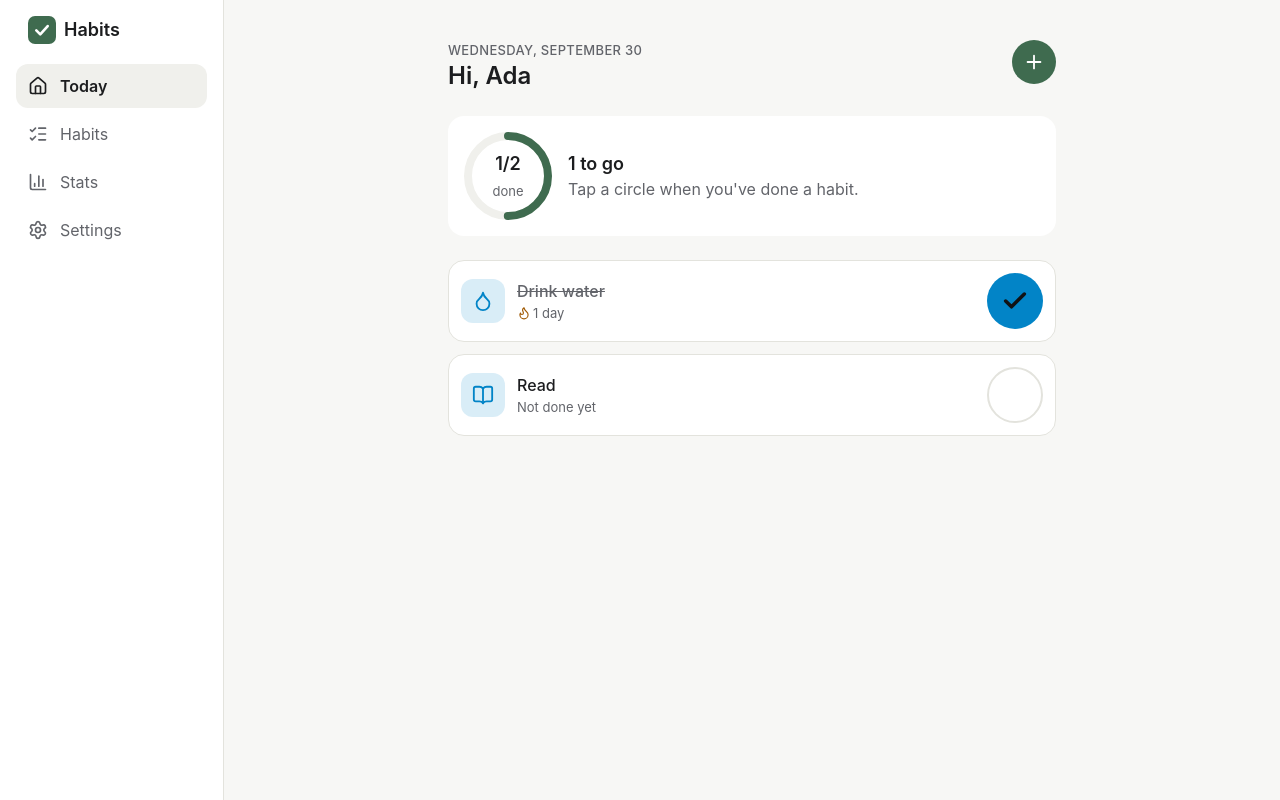
Test: checking a habit off › offers Undo after unchecking
Click the button named "Drink water: done. Tap to undo" at (1015, 301), box [987, 273, 1043, 329]
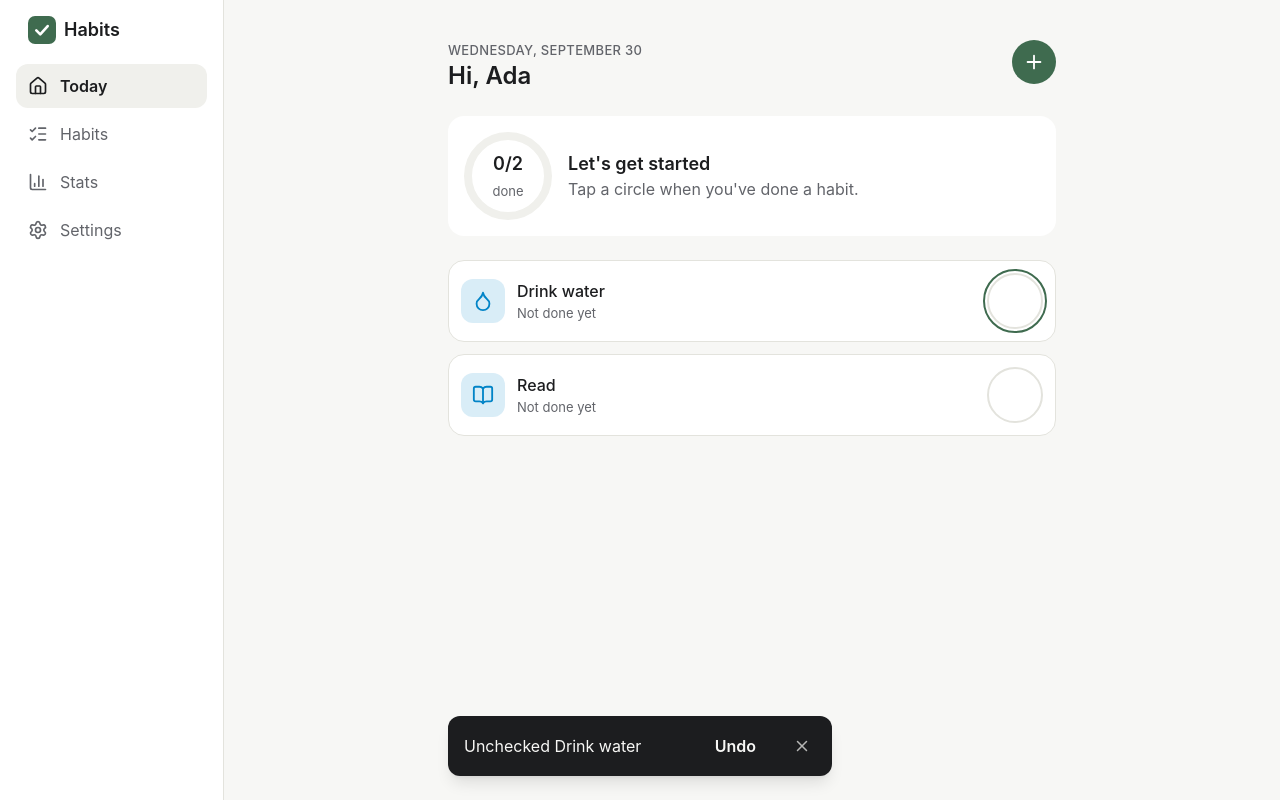
Result: the text "Unchecked Drink water" is shown at [464, 736, 641, 756]
Click the button "Undo" at (735, 746), box [703, 724, 768, 768]
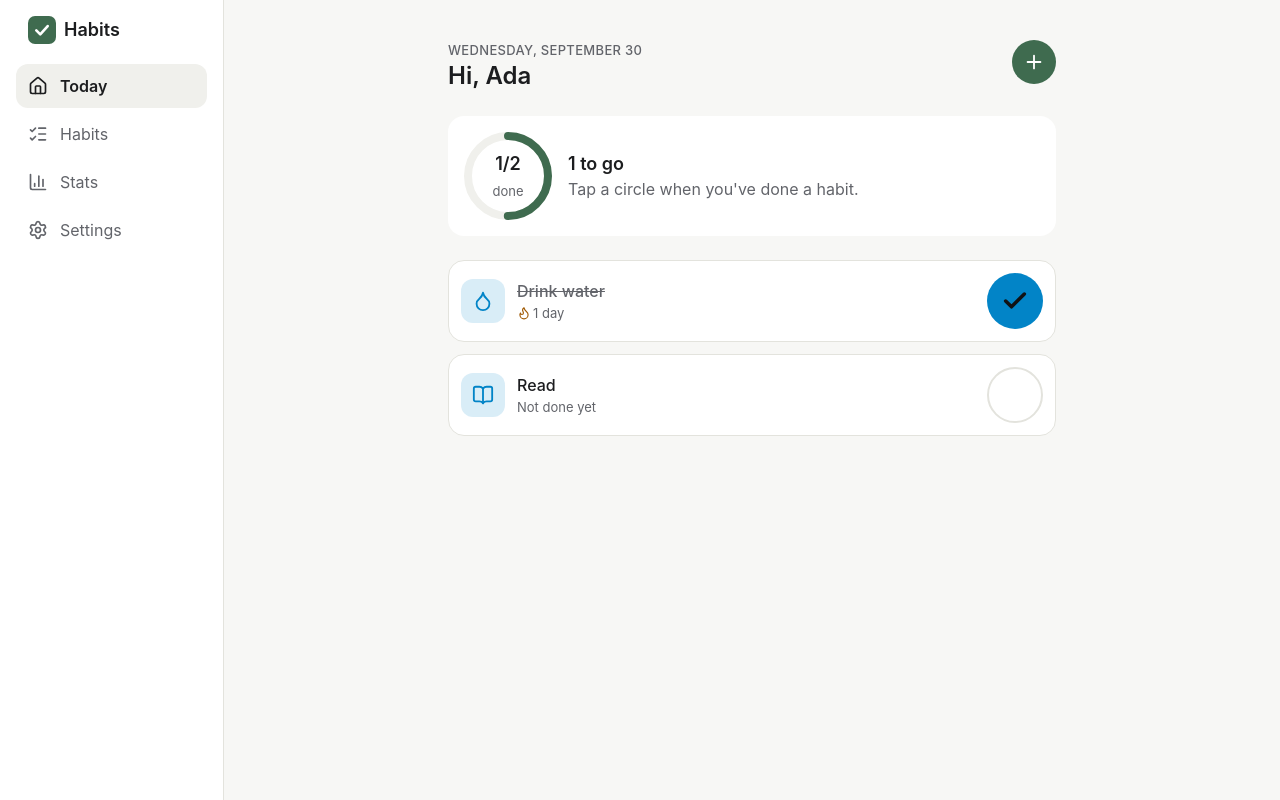
Result: the button named "Drink water: done. Tap to undo" is shown at [987, 273, 1043, 329]
